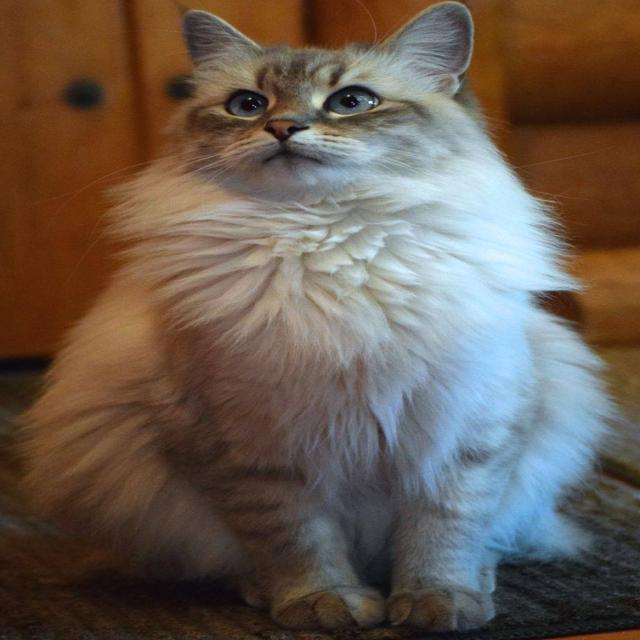Neva Masquerade: (12, 0, 622, 640)
